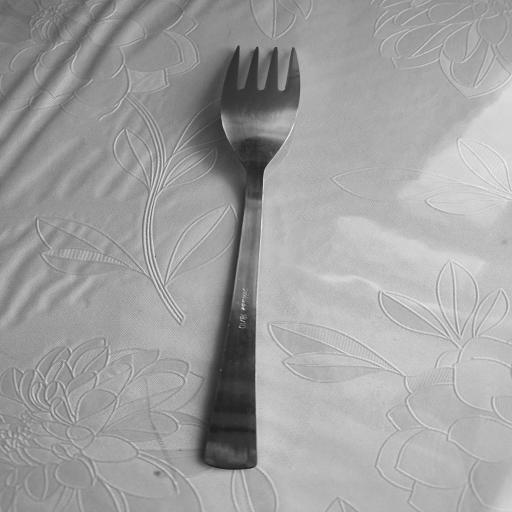fork: (184, 47, 304, 472)
